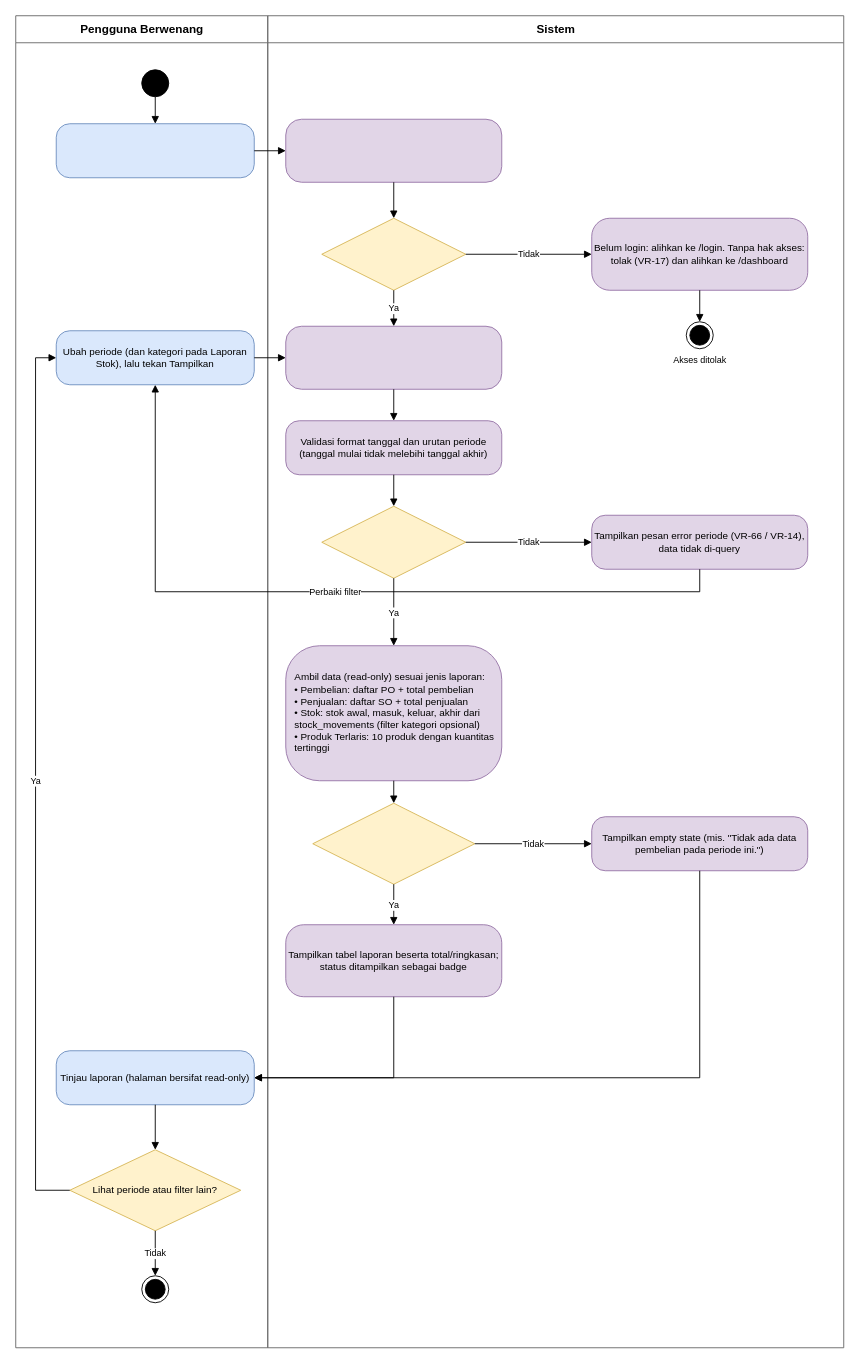
Image size: 860x1364. Some labels were removed from this diagram. Each missing label, with the centre of its shape:
Ada data pada periode?: the point at 393,843
Bersihkan filter: tanggal kosong diisi default bulan berjalan: the point at 393,357
Periksa sesi login dan hak akses terhadap laporan yang dipilih: the point at 393,150
Periode valid?: the point at 393,541
Pilih menu laporan (Pembelian, Penjualan, Stok, atau Produk Terlaris): the point at 154,150
Punya akses?: the point at 393,253
